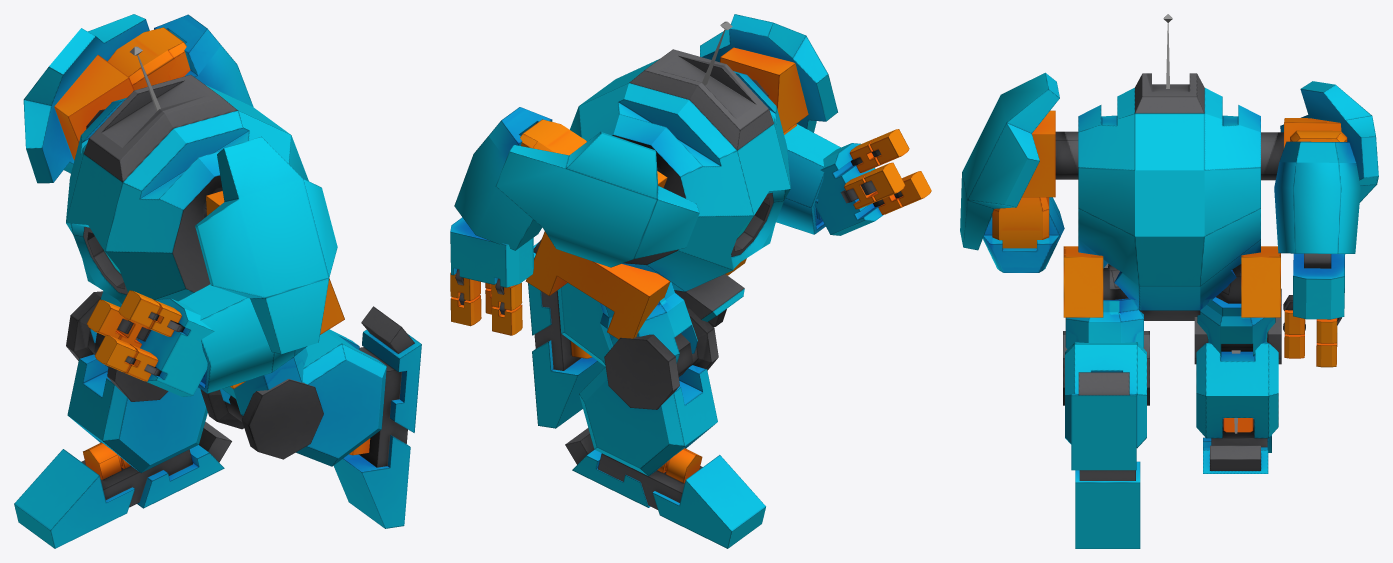
The model's file is Walk3.obj.
3 views of the same model, side by side, from view 1: azimuth 30°, elevation 25°; view 2: azimuth 150°, elevation 25°; view 3: azimuth 270°, elevation 25° (orthographic). The views are drawn at different scales.
Parts seen in each view (by area): view 1: Plane001, Object006, Object013, Object002, Object011, Object010, Object014, Object008, Object007, Object003, Object012; view 2: Plane001, Object002, Object010, Object011, Object006, Object008, Object004, Object003, Object014, Object007, Object013, Object009; view 3: Plane001, Object006, Object014, Object003, Object010, Object004, Object002, Object013, Object012, Object009, Object011, Object007 (+2 smaller).
Part boxes in pixels (x1,y1,x2,y2): Plane001: (66,74,344,388); Object006: (195,136,337,354); Object013: (200,329,386,466); Object002: (23,14,190,183); Object011: (14,422,231,548); Object010: (66,291,207,472); Object014: (333,306,421,528); Object008: (86,290,214,396); Object007: (178,284,307,393); Object003: (154,14,253,106); Object012: (220,348,307,415); Plane001: (525,49,790,339); Object002: (495,119,699,267); Object010: (579,308,718,476); Object011: (565,428,765,548); Object006: (700,14,837,134); Object008: (815,129,931,235); Object004: (450,217,533,335); Object003: (454,107,552,250); Object014: (528,239,604,428); Object007: (776,124,840,234); Object013: (557,283,726,366); Object009: (600,281,697,363); Plane001: (1063,73,1280,320); Object006: (960,72,1059,250); Object014: (1071,372,1140,548); Object003: (1274,141,1360,253); Object010: (1194,288,1281,438); Object004: (1283,253,1345,367); Object002: (1280,81,1378,202); Object013: (1063,331,1149,448); Object012: (1065,264,1143,348); Object009: (1197,264,1275,357); Object011: (1203,418,1271,473); Object007: (983,197,1064,272).
Bounding box in the file's own units: 159 × 215 × 182.
